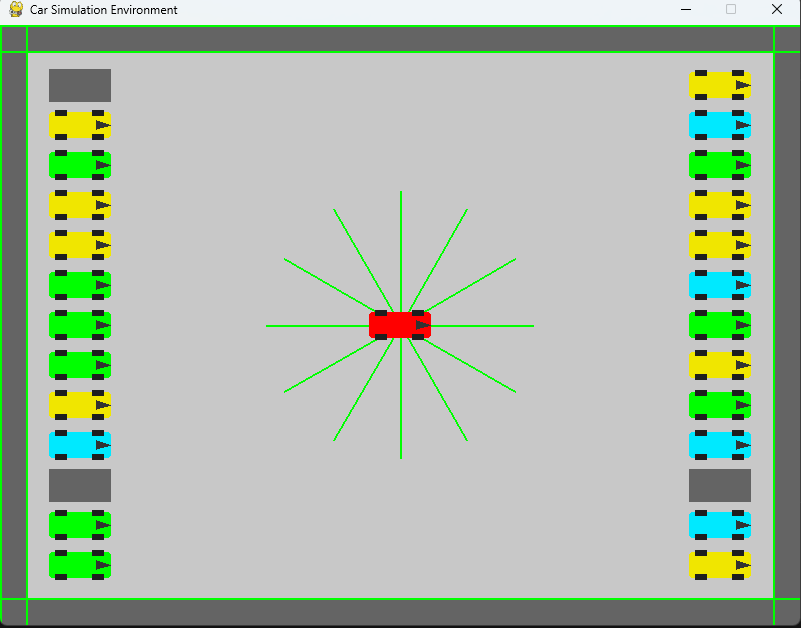ControlledCar: (360, 298, 438, 347)
ParkedCar: (680, 64, 759, 104), (43, 186, 117, 228), (687, 505, 758, 548), (44, 346, 120, 385), (685, 306, 758, 346), (684, 386, 758, 424), (46, 265, 116, 304), (46, 387, 115, 426), (686, 266, 751, 307), (46, 103, 116, 141), (689, 426, 755, 466), (684, 188, 757, 224), (681, 109, 752, 144), (46, 148, 115, 184), (687, 149, 760, 183), (689, 346, 757, 382), (46, 427, 115, 462), (44, 229, 119, 261), (45, 508, 115, 542), (46, 547, 112, 583), (47, 311, 118, 344), (688, 548, 753, 583), (685, 231, 753, 263)
ParkingSpot: (44, 464, 119, 506), (40, 63, 118, 103), (678, 468, 759, 503)
